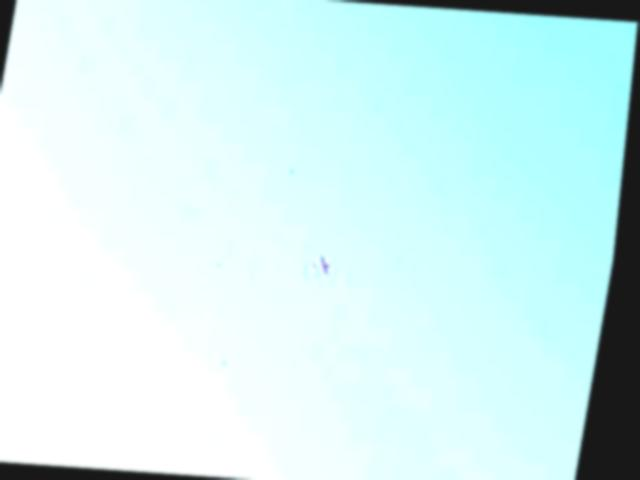uav: (307, 244, 349, 280)
